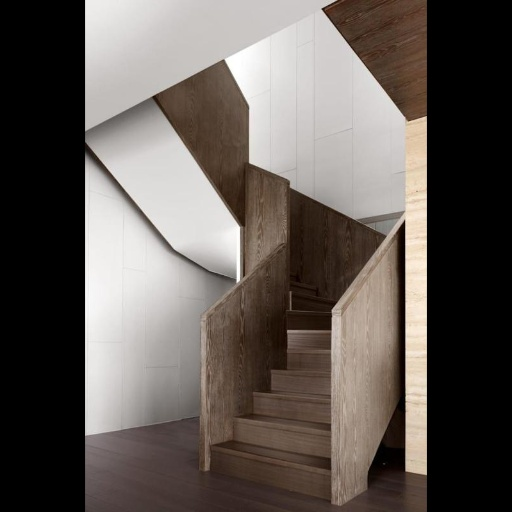Stairs: (211, 332, 331, 499)
